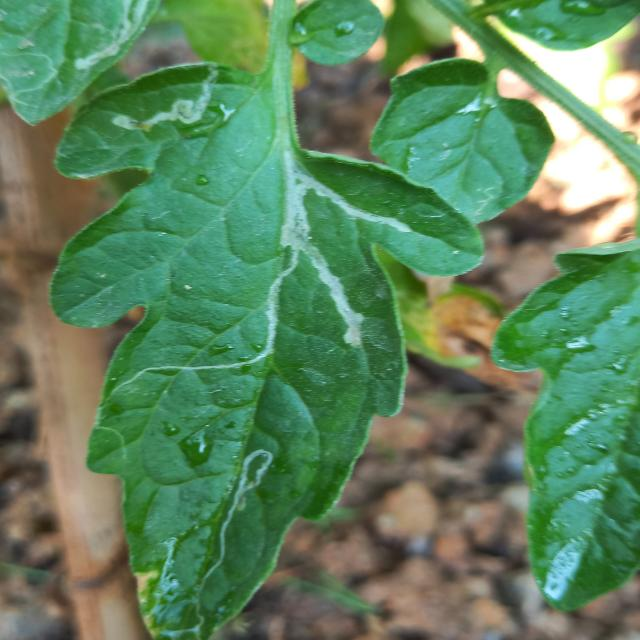Tuta absoluta: (120, 143, 433, 486), (201, 444, 275, 587), (111, 68, 232, 155)
